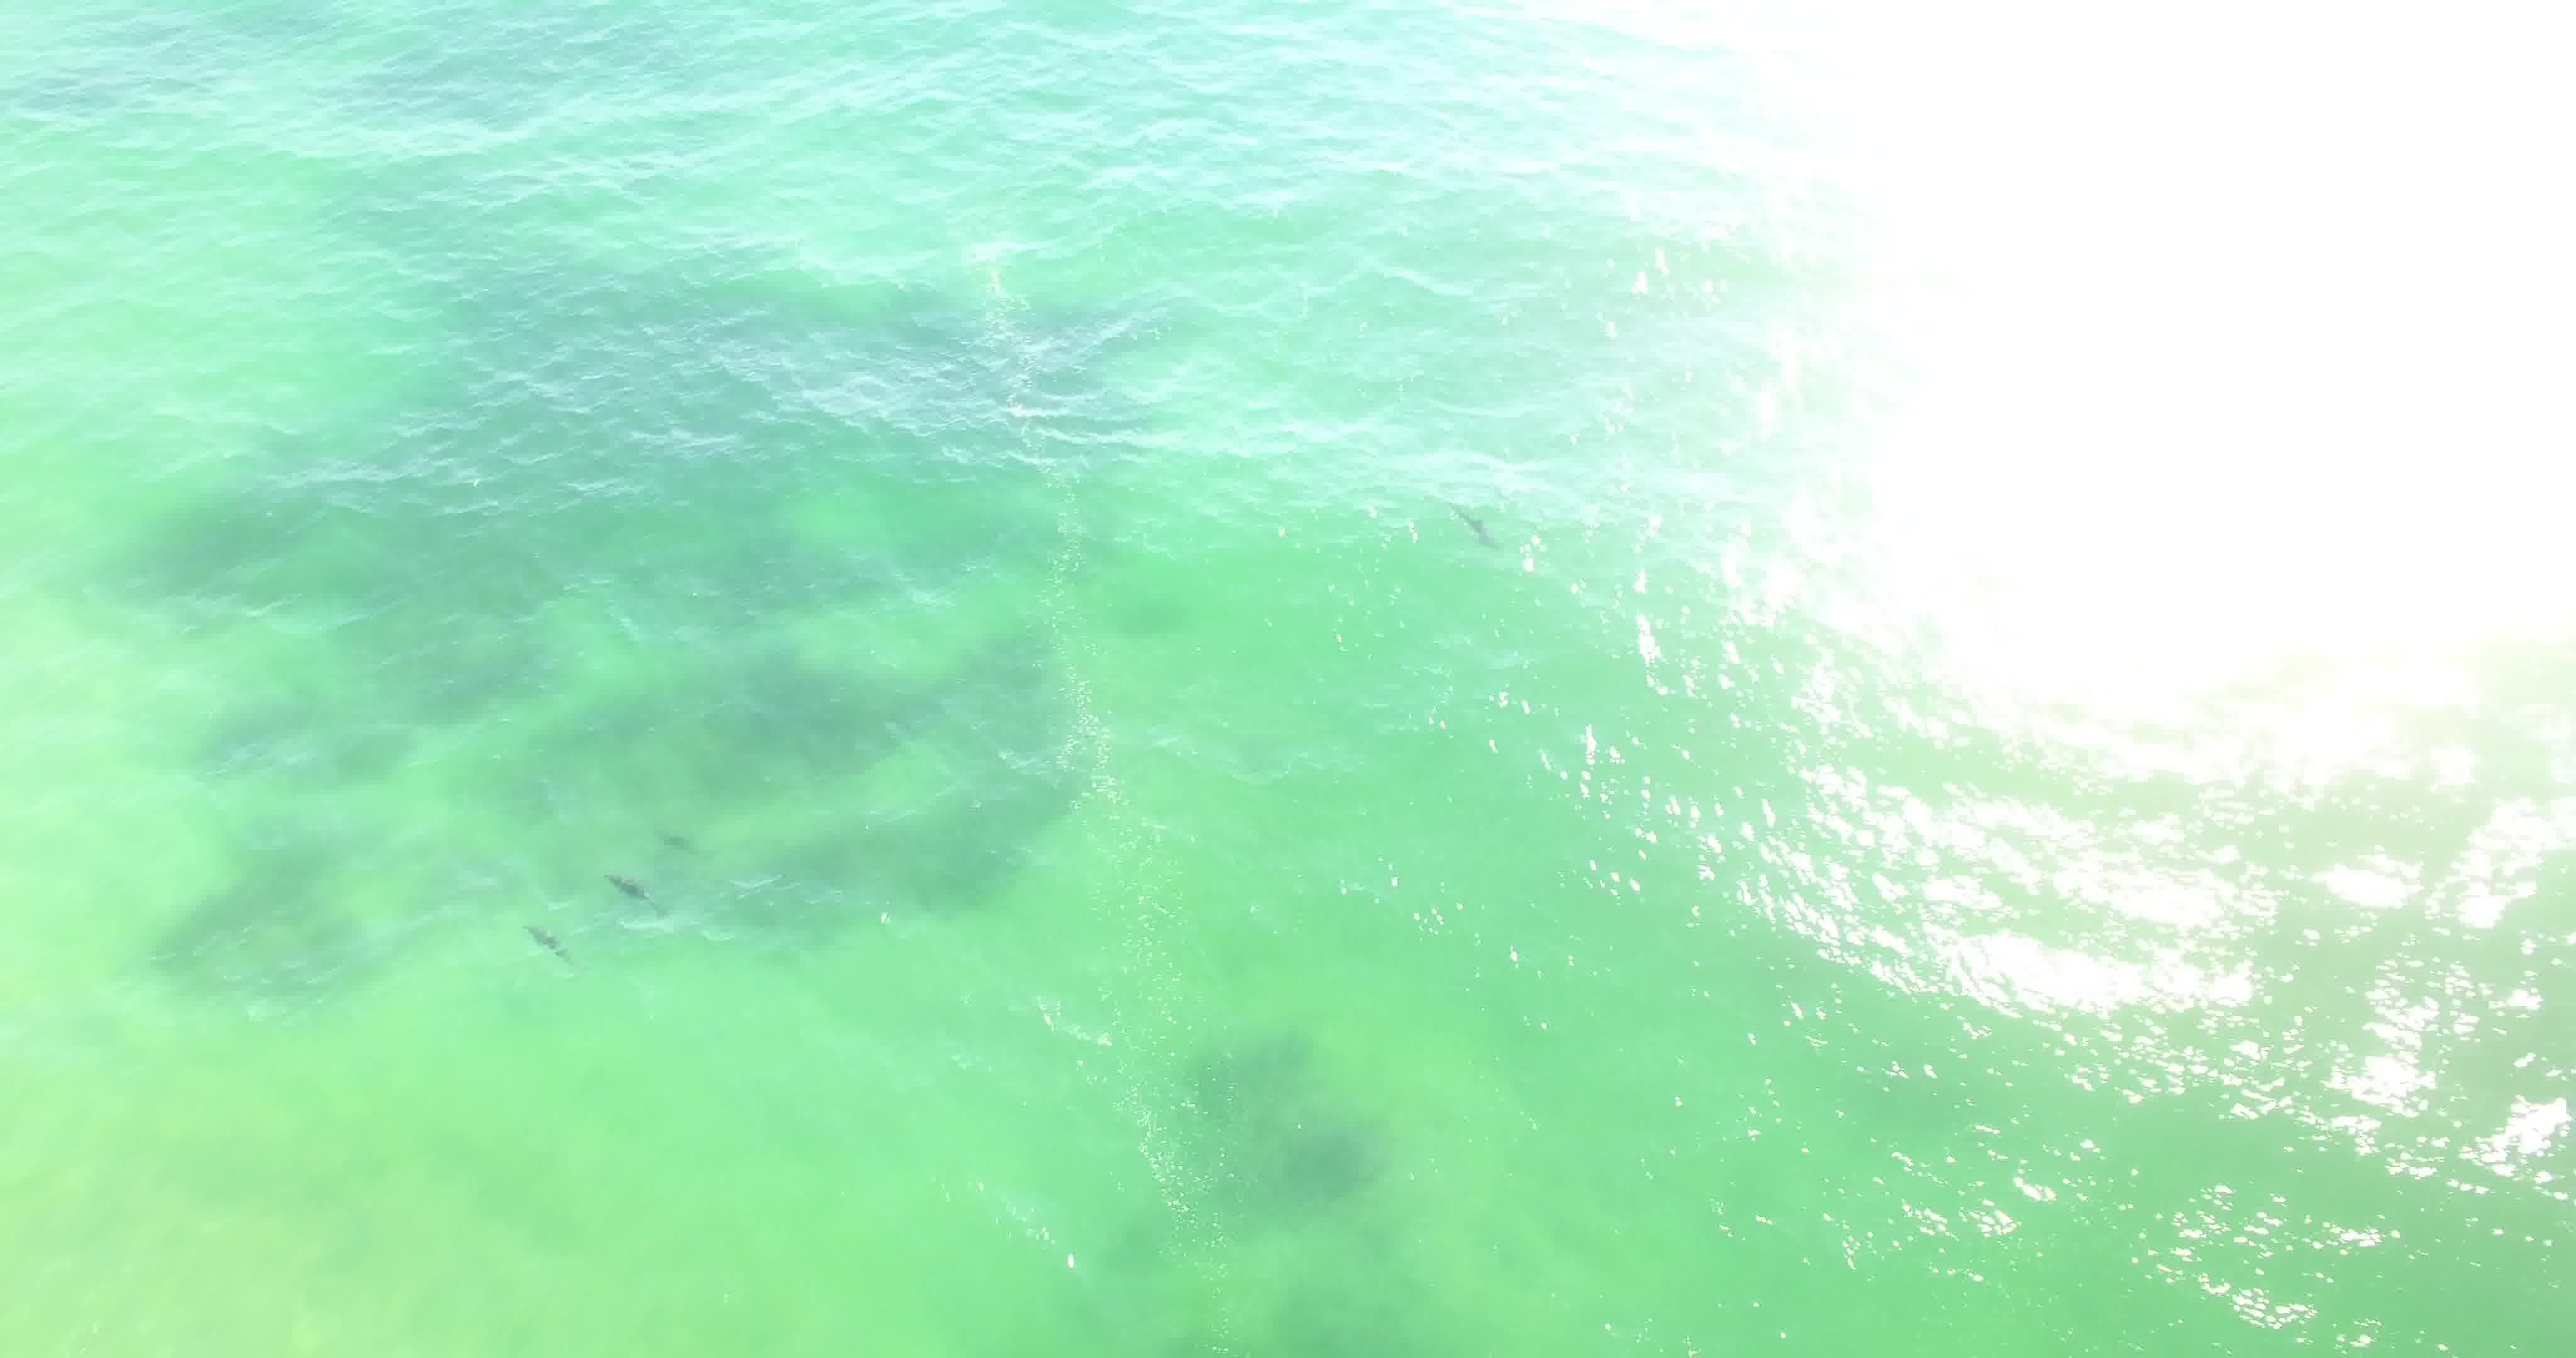dolphin: (578, 847, 685, 930), (1435, 487, 1521, 571), (511, 903, 583, 973)
